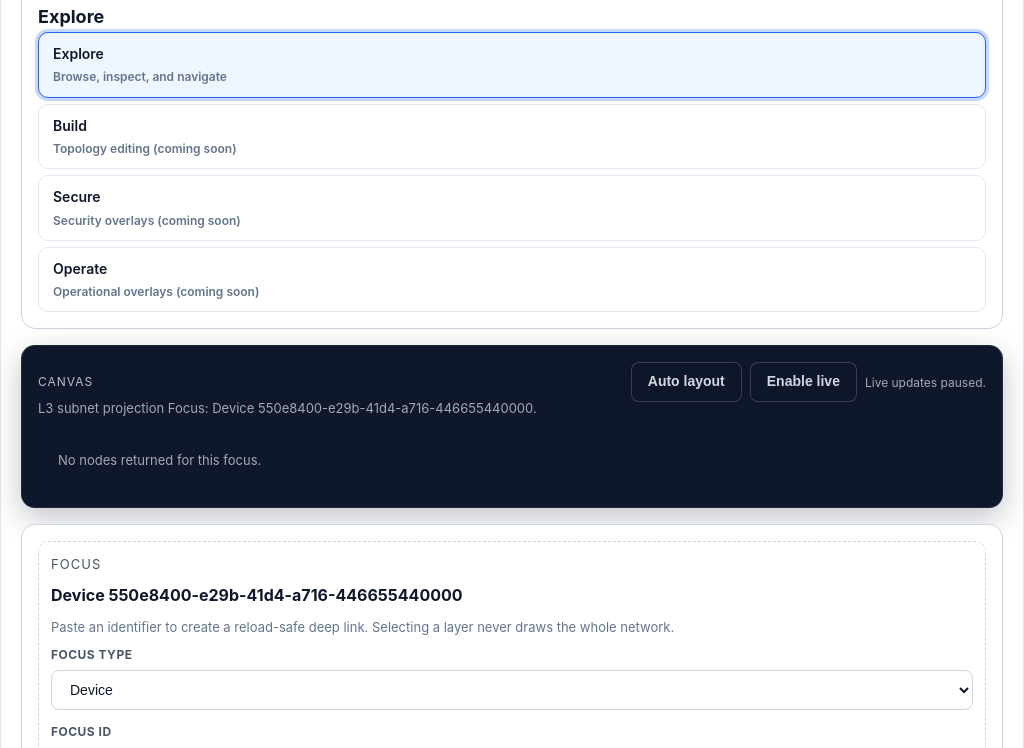
MapPage URL contract › defaults to pinned focus and lets the operator toggle live updates
The image size is (1024, 748).
(page scrolled)
Check: the text "Live updates paused." is shown, box [865, 372, 986, 392]
Click the button "Enable live" at (803, 382), box [750, 362, 857, 402]
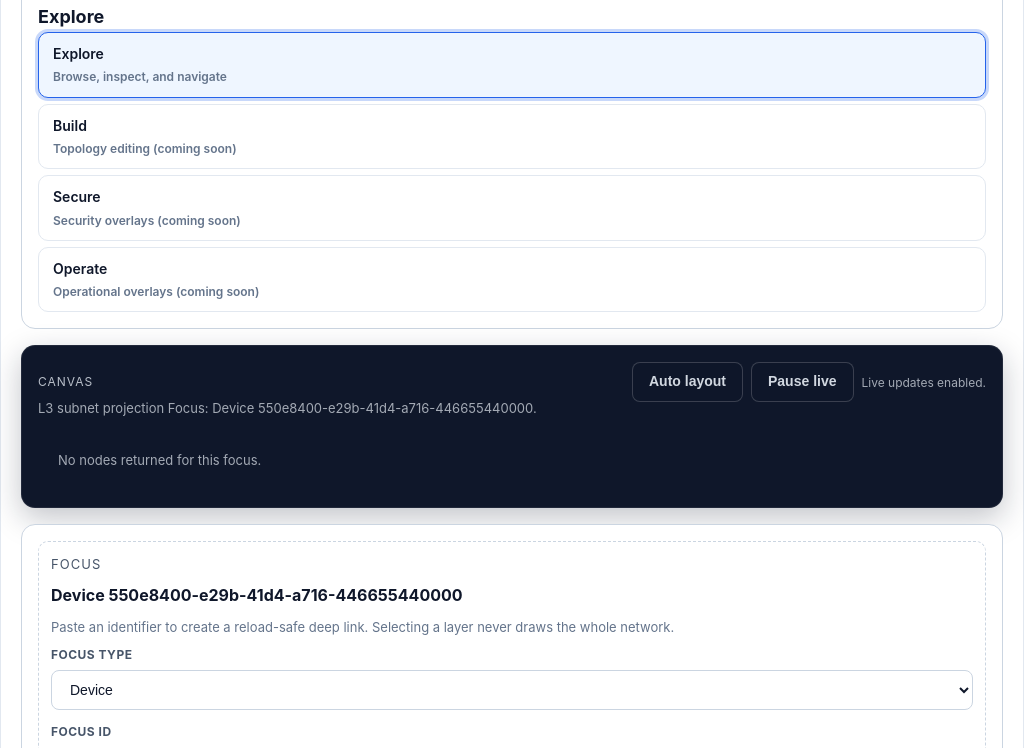
Check: the text "Live updates enabled." is shown, box [862, 372, 986, 392]
Check: the button "Pause live" is shown, box [751, 362, 854, 402]
